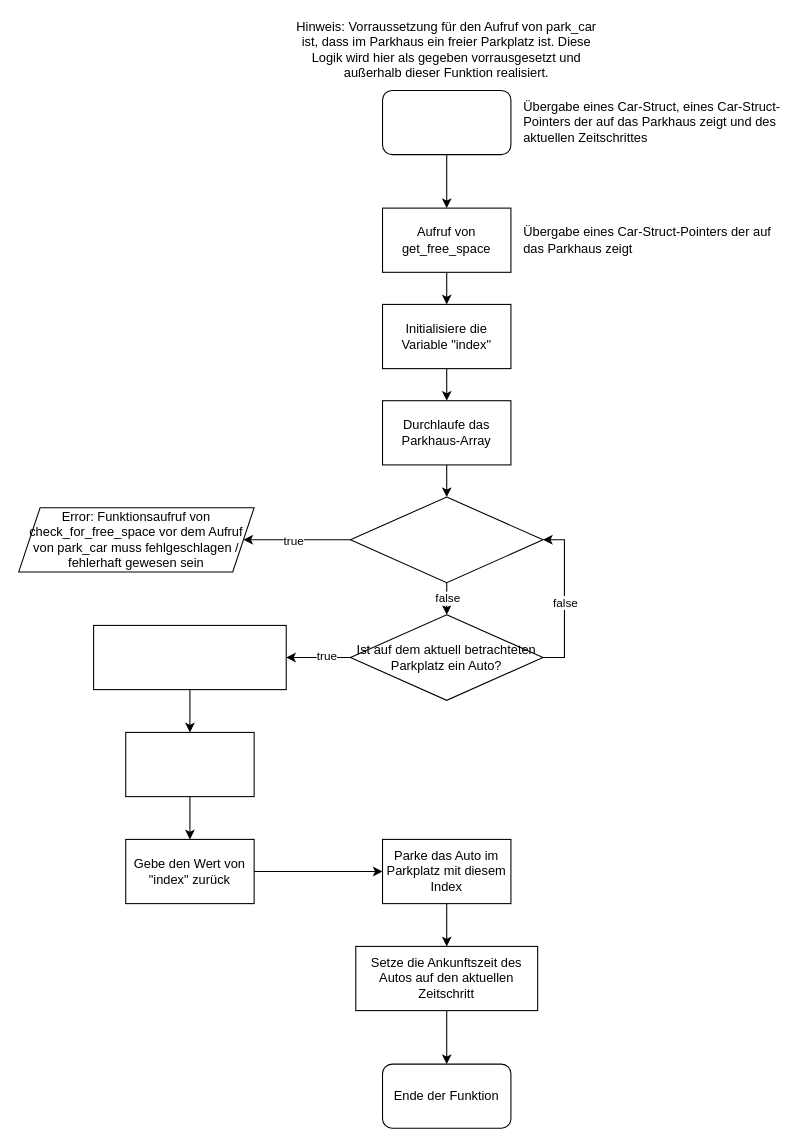
This 808x1147 diagram has some shape labels left out. The shapes that lost their labels are listed below. From the top down, each one's centre as x and y in pixels, then its label:
point 446,122: Aufruf von park_car
point 446,539: Wurde das ganze Parkhaus überprüft?
point 189,657: Setze die Variable "index" auf den Index des aktuellen Parkplatzes
point 189,764: Beende die Überprüfung des Parkhauses
